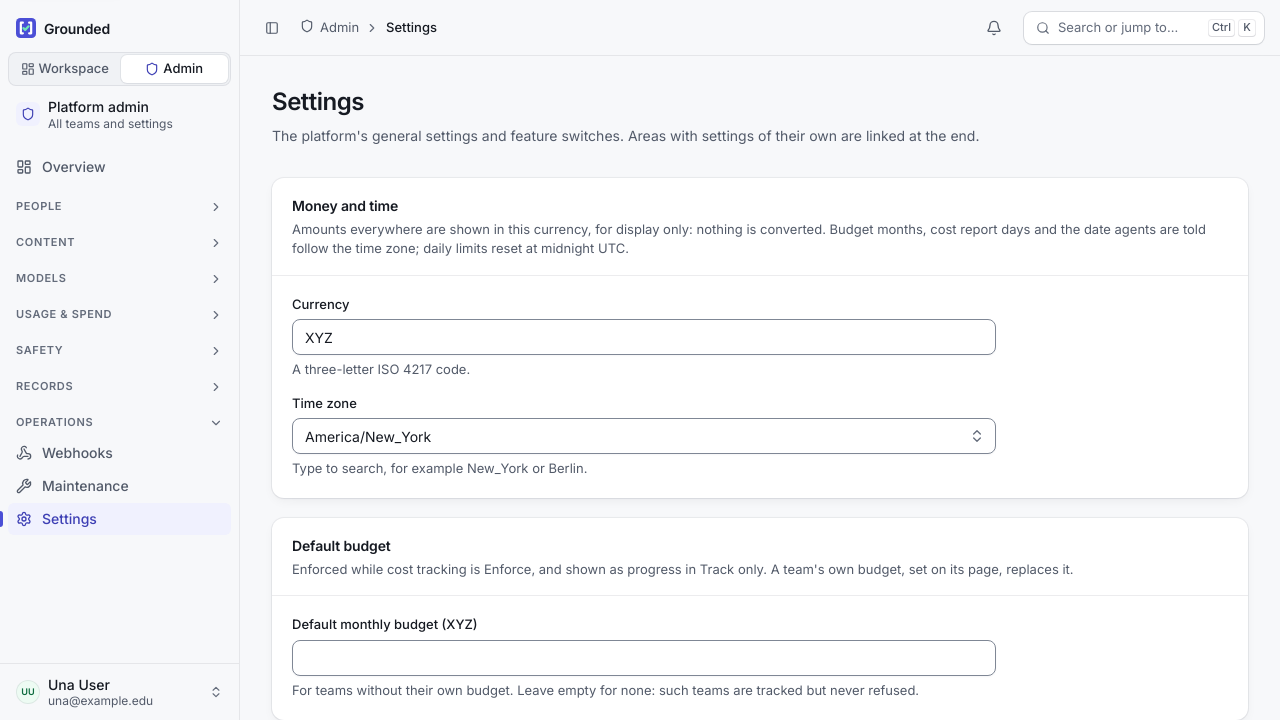
Scenario: Admin → Settings save conflict (AD2-01) › keeps the typed currency, lists Costs → Settings' change and saves both with Overwrite
Replace the text in the field labelled "Currency" with "USD" at (644, 337), box [292, 319, 996, 355]
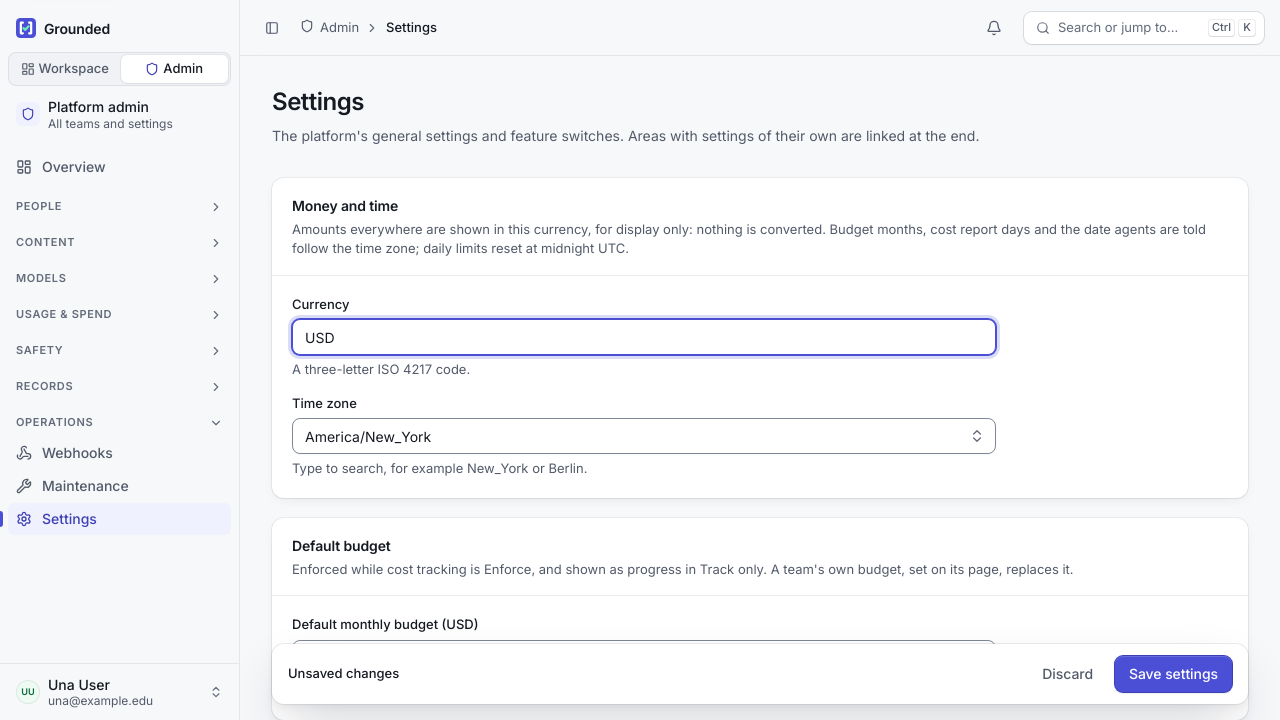
Click the button "Save settings" at (1174, 674), box [1115, 656, 1232, 692]
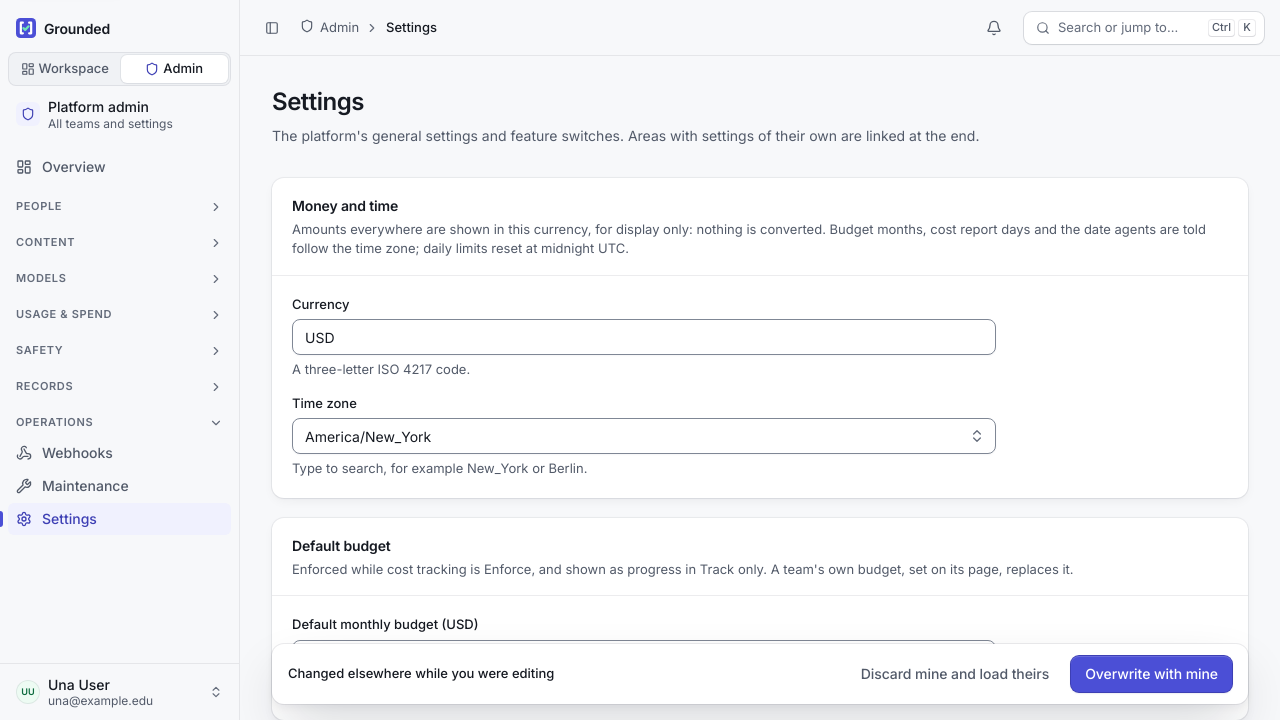
Click the button "Overwrite with mine" at (1152, 674), box [1071, 656, 1232, 692]
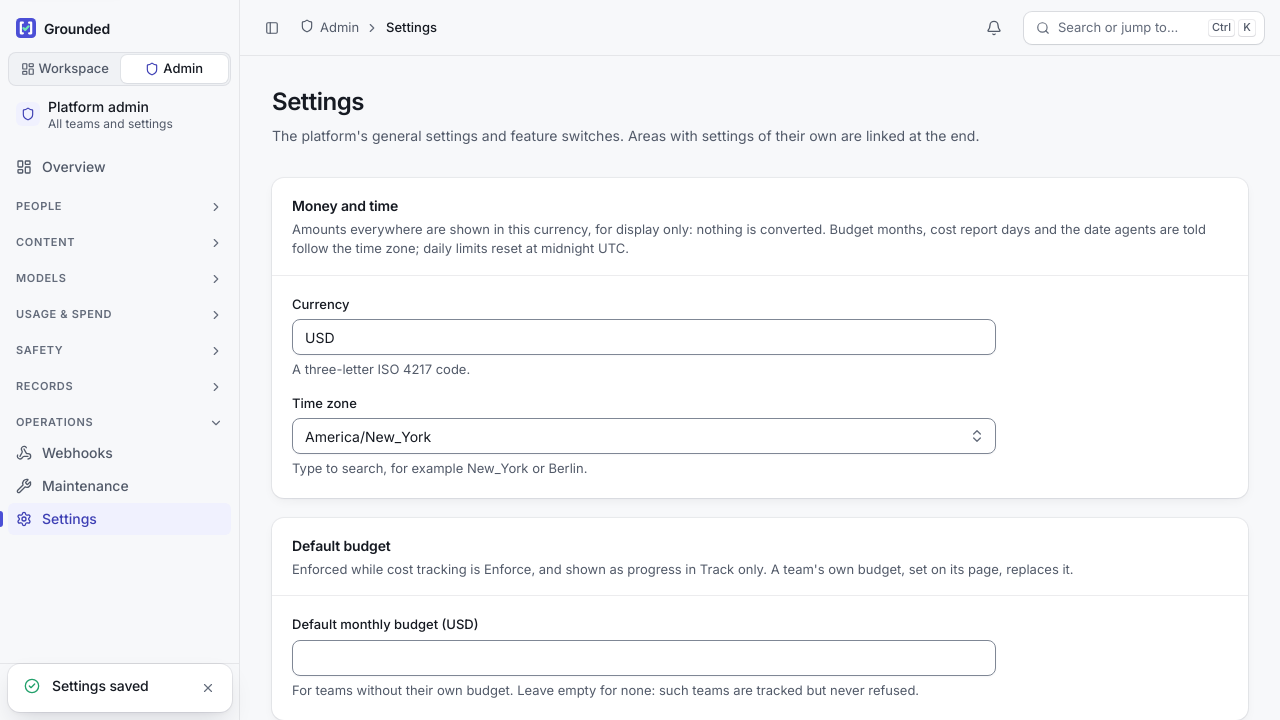
expect the message "Changed elsewhere" is gone: met
